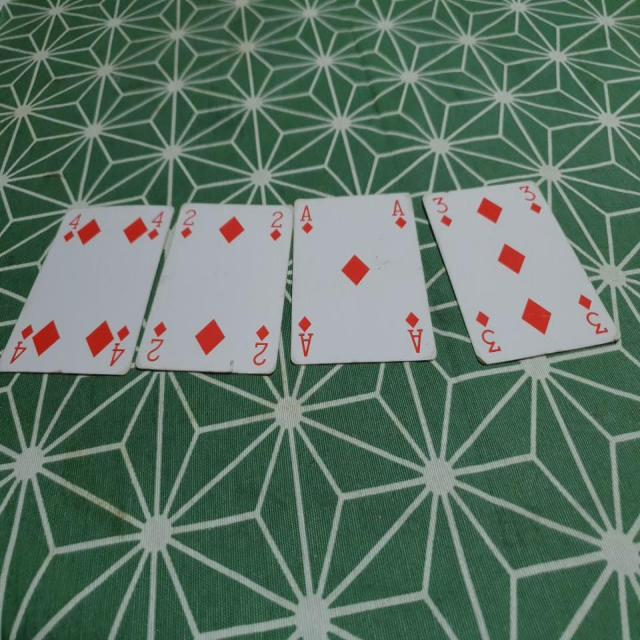2 Diamonds: (136, 195, 297, 366)
3 Diamonds: (422, 174, 622, 366)
4 Diamonds: (0, 198, 176, 380)
A Diamonds: (288, 188, 441, 364)
